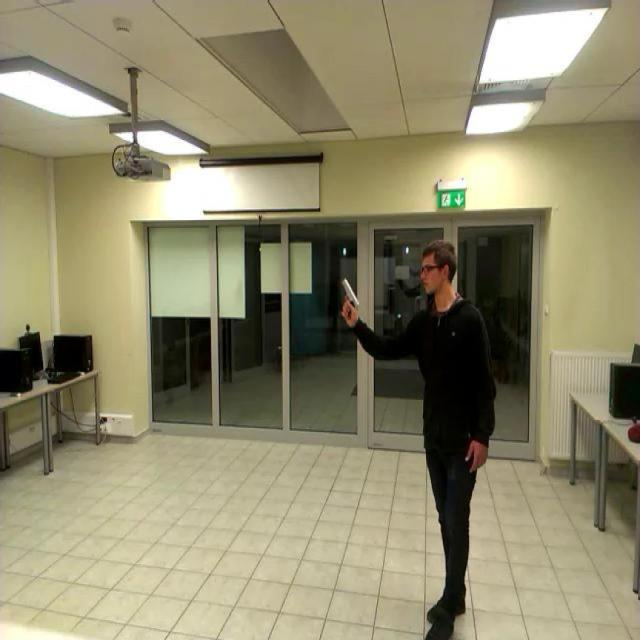pistol: (341, 276, 358, 320)
